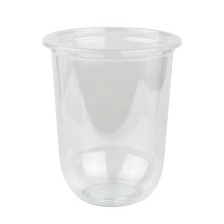glass: (36, 18, 194, 210)
